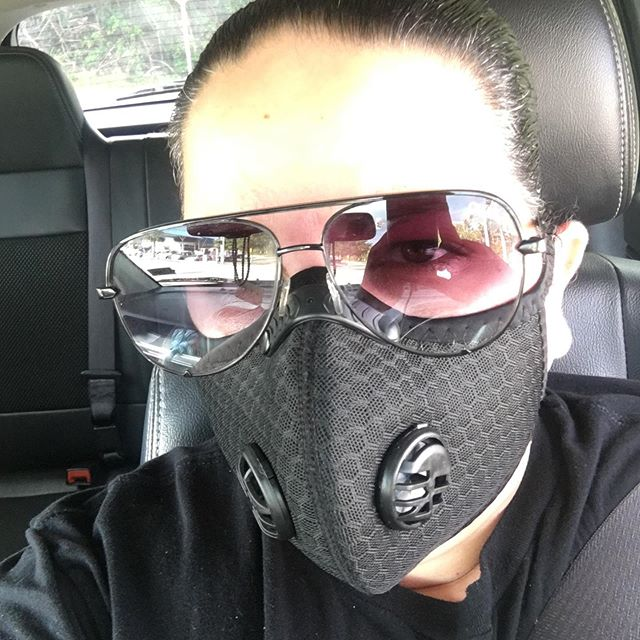homemade: (145, 288, 574, 609)
